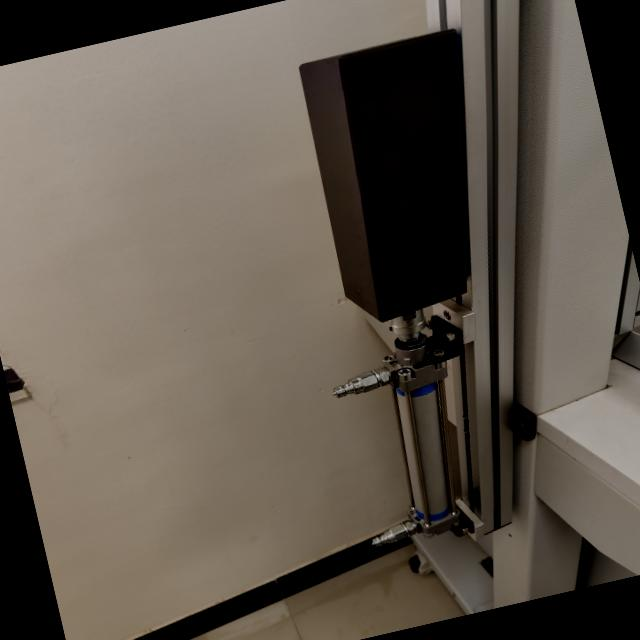load: (251, 18, 586, 562)
